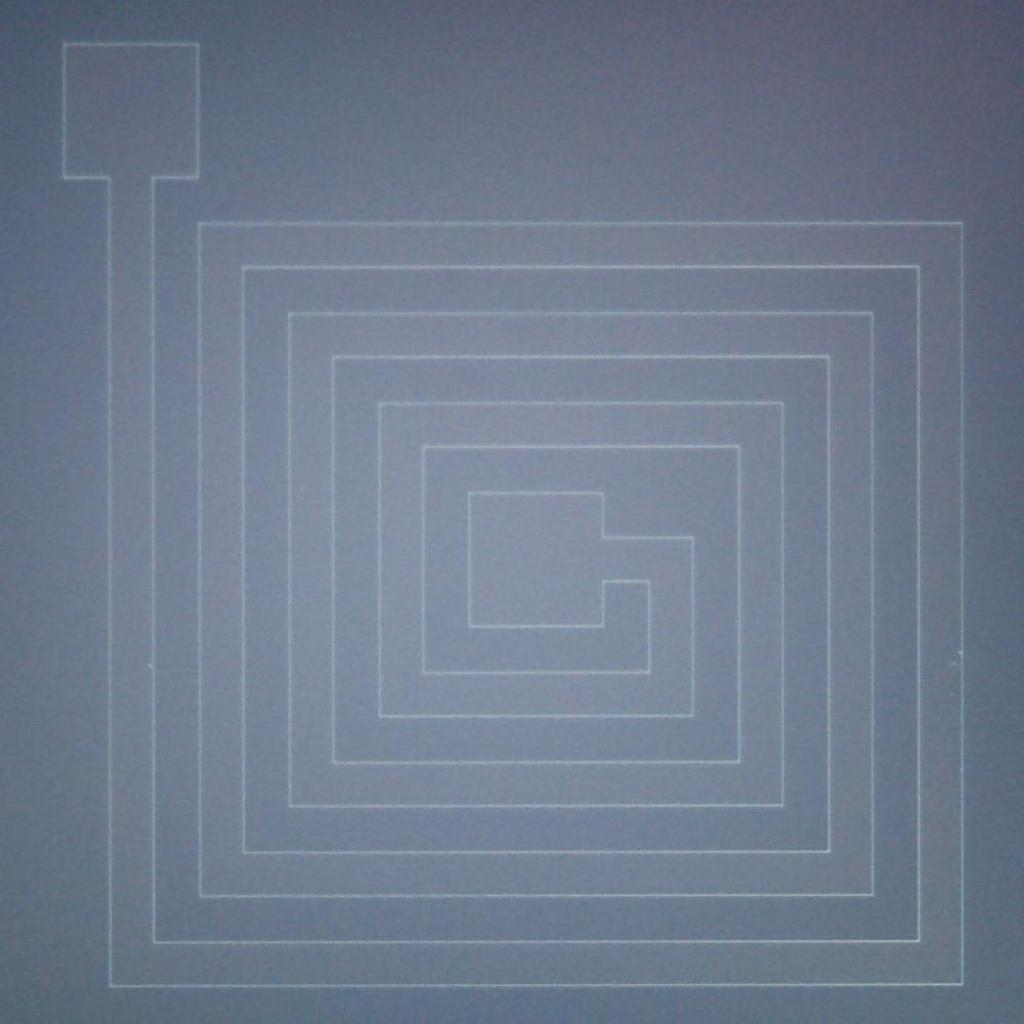dot: (147, 662, 153, 668), (958, 651, 962, 655)
